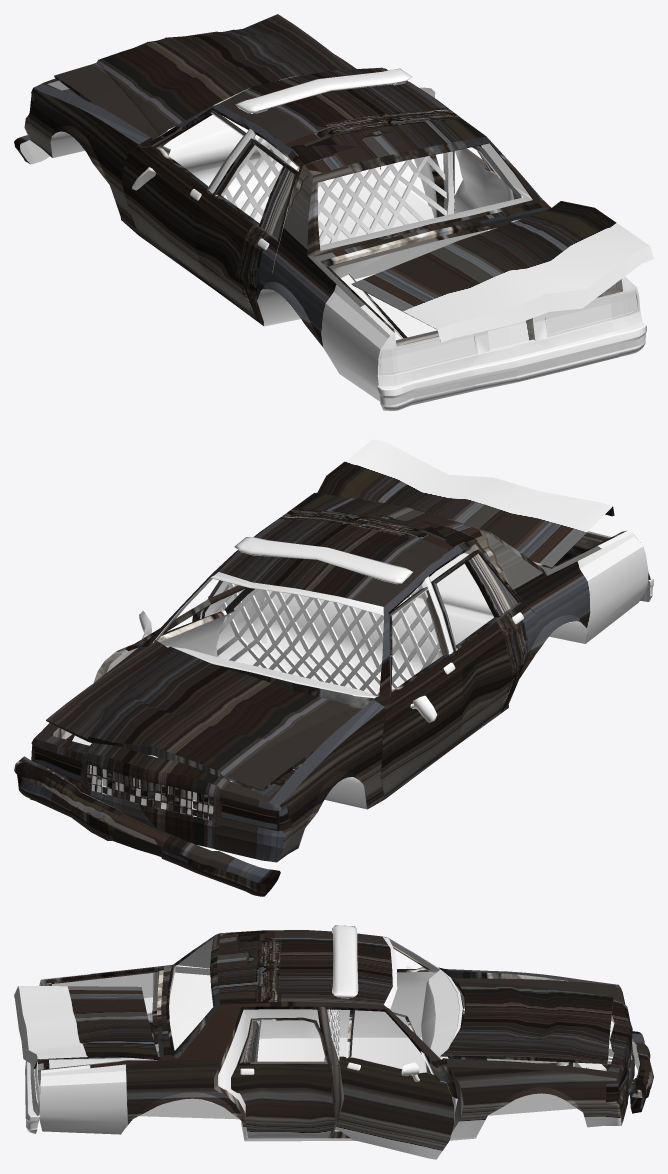
Rendered from Vehicle_CapriceWreck.fbx.
The picture shows the model from 3 angles, top to bottom: view 1: azimuth 30°, elevation 25°; view 2: azimuth 150°, elevation 25°; view 3: azimuth 270°, elevation 25°; orthographic projection. The views are drawn at different scales.
Parts seen in each view (by area): view 1: base_mesh; view 2: base_mesh; view 3: base_mesh.
Boxes of the visible parts, x1,y1,x2,y2 form: base_mesh: [14, 14, 653, 410]; base_mesh: [14, 439, 653, 896]; base_mesh: [14, 925, 653, 1159].
Size of the model in its own units: 3.87 by 2.15 by 8.32.
